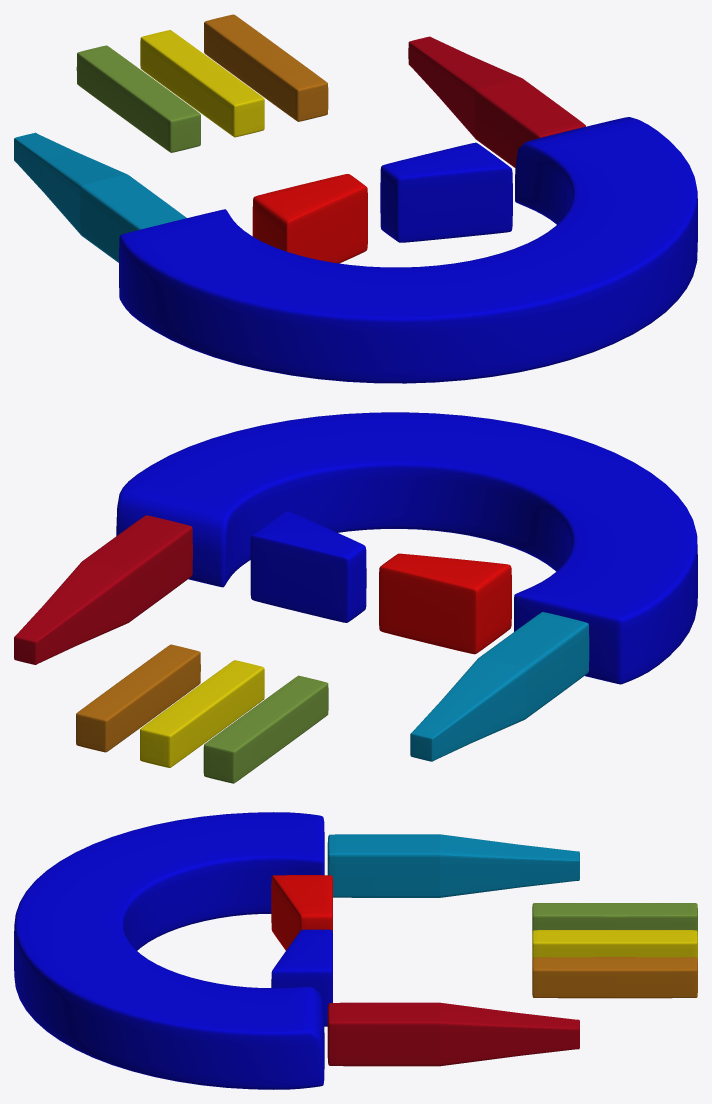
The model's file is C64Seeker.fbx.
The picture shows the model from 3 angles, top to bottom: view 1: azimuth 30°, elevation 25°; view 2: azimuth 150°, elevation 25°; view 3: azimuth 270°, elevation 25°; orthographic projection. The views are drawn at different scales.
Parts seen in each view (by area): view 1: Cube; view 2: Cube; view 3: Cube.
Boxes of the visible parts, x1,y1,x2,y2 form: Cube: (14,14,697,383); Cube: (14,412,697,783); Cube: (14,812,697,1089).
Bounding box in the file's own units: 16272 × 1998 × 21136.
